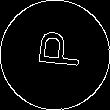P_W: (28, 34, 82, 76)
